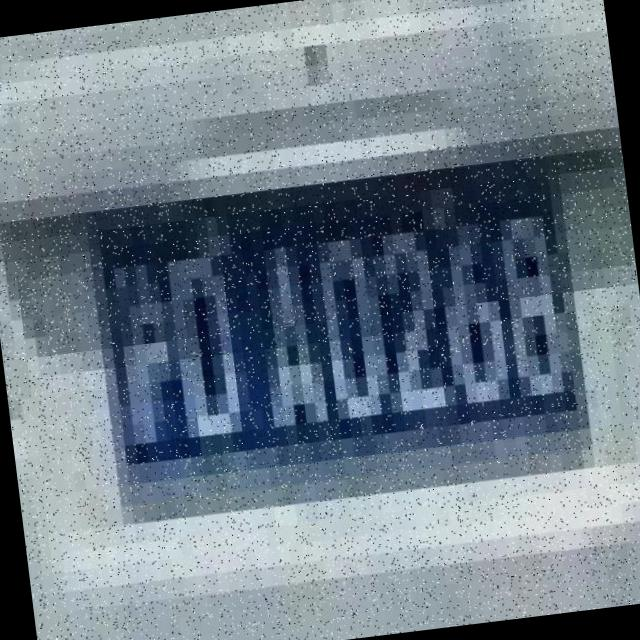LicensePlate: (89, 163, 586, 503)
